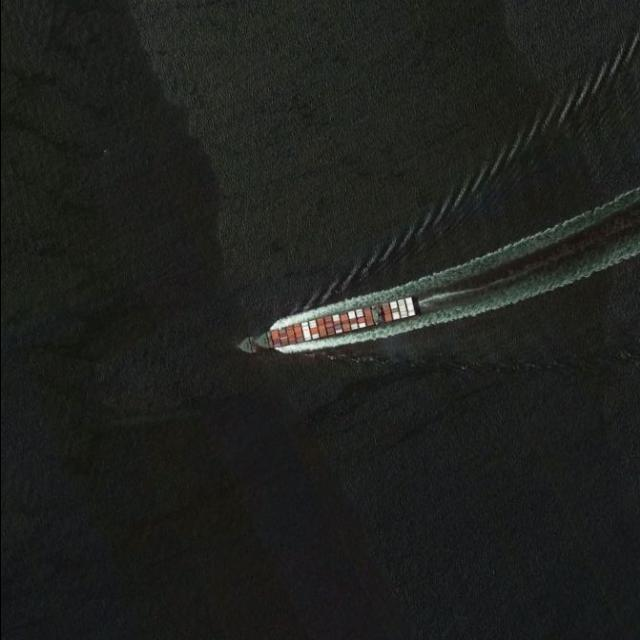ship: (248, 292, 422, 356)
